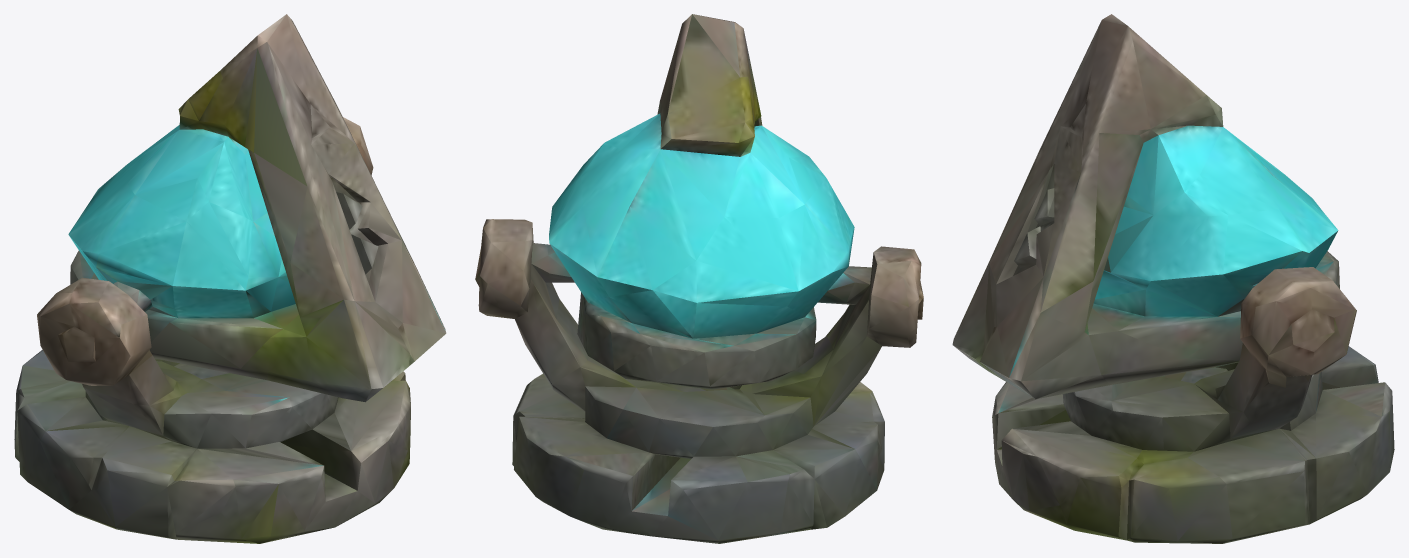
Rendered from prisma_orientable.glb.
3 renders of one model, left to right at view 1: azimuth 30°, elevation 25°; view 2: azimuth 150°, elevation 25°; view 3: azimuth 270°, elevation 25°, orthographic. The views are drawn at different scales.
Parts seen in each view (by area): view 1: prisma_orientable_malla; view 2: prisma_orientable_malla; view 3: prisma_orientable_malla.
Boxes of the visible parts, <box> form: prisma_orientable_malla: <box>14,14,446,543</box>; prisma_orientable_malla: <box>475,14,923,543</box>; prisma_orientable_malla: <box>952,14,1394,543</box>.
Bounding box in the file's own units: 0.2995 × 0.3328 × 0.2857.
1 material, 1 textured.
